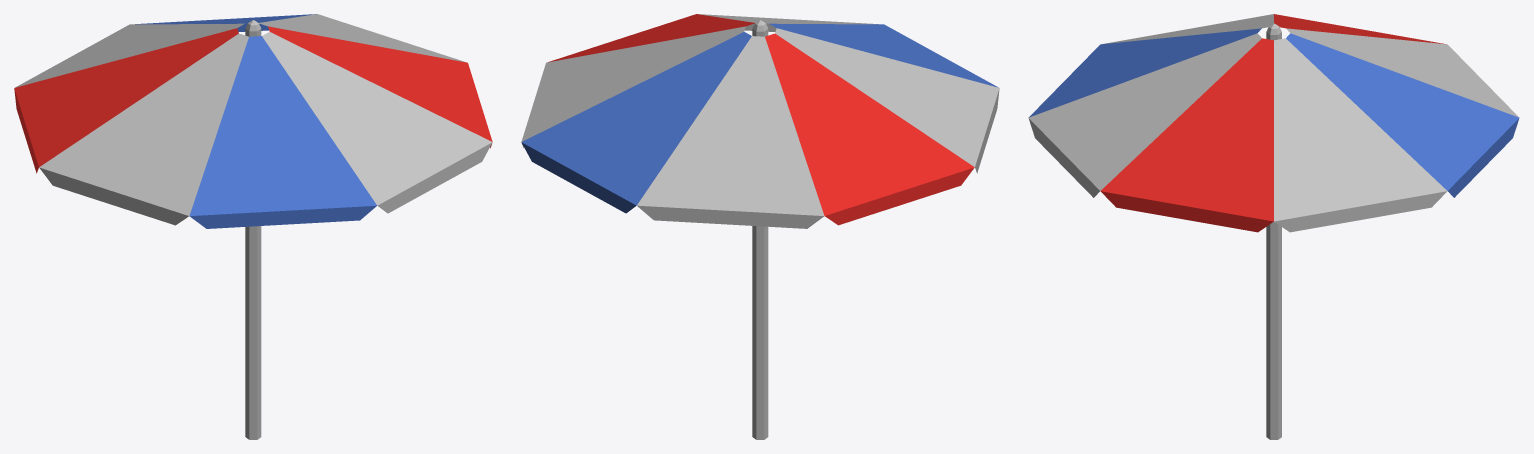
Rendered from sunscreen03.fbx.
The picture shows the model from 3 angles, left to right: view 1: azimuth 30°, elevation 25°; view 2: azimuth 150°, elevation 25°; view 3: azimuth 270°, elevation 25°; orthographic projection.
Parts seen in each view (by area): view 1: sunscreen_03, sunscreen_03-2; view 2: sunscreen_03, sunscreen_03-2; view 3: sunscreen_03, sunscreen_03-2.
Boxes of the visible parts, x1=… form: sunscreen_03: x1=14, y1=14, x2=492, y2=228; sunscreen_03-2: x1=245, y1=20, x2=261, y2=439; sunscreen_03: x1=521, y1=14, x2=999, y2=228; sunscreen_03-2: x1=752, y1=20, x2=768, y2=439; sunscreen_03: x1=1028, y1=14, x2=1519, y2=232; sunscreen_03-2: x1=1266, y1=23, x2=1281, y2=439.
Size of the model in its own units: 2.37 by 2.37 by 2.2.
